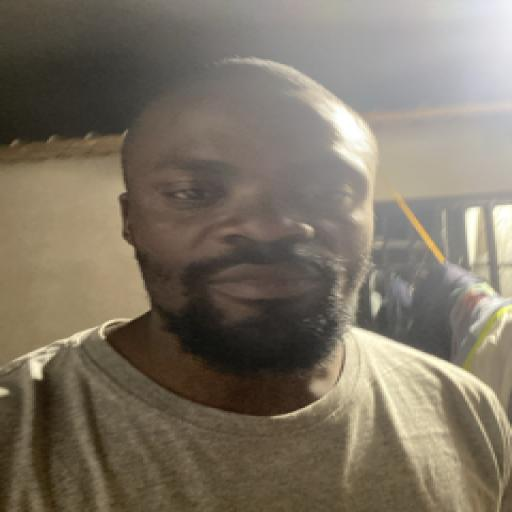JEANLUC: (118, 63, 379, 363)
